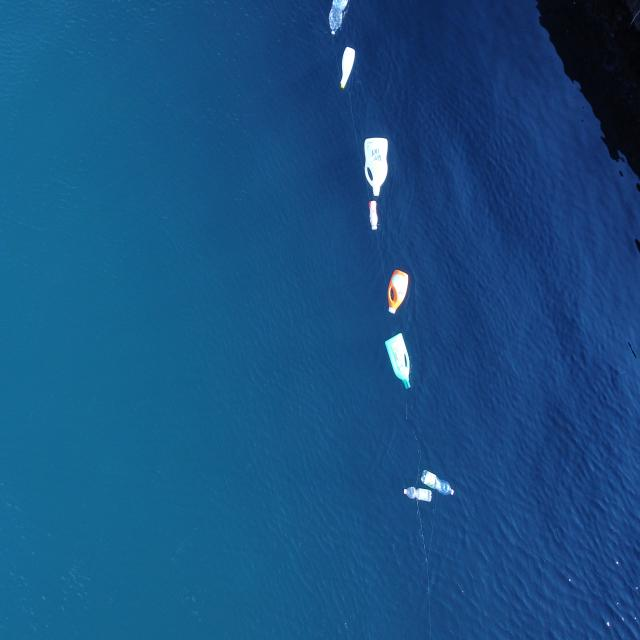bottles: (383, 330, 412, 391), (363, 134, 390, 198), (386, 266, 410, 316), (419, 468, 456, 497), (339, 43, 356, 91), (327, 0, 349, 36), (402, 484, 433, 504), (367, 198, 379, 231)
